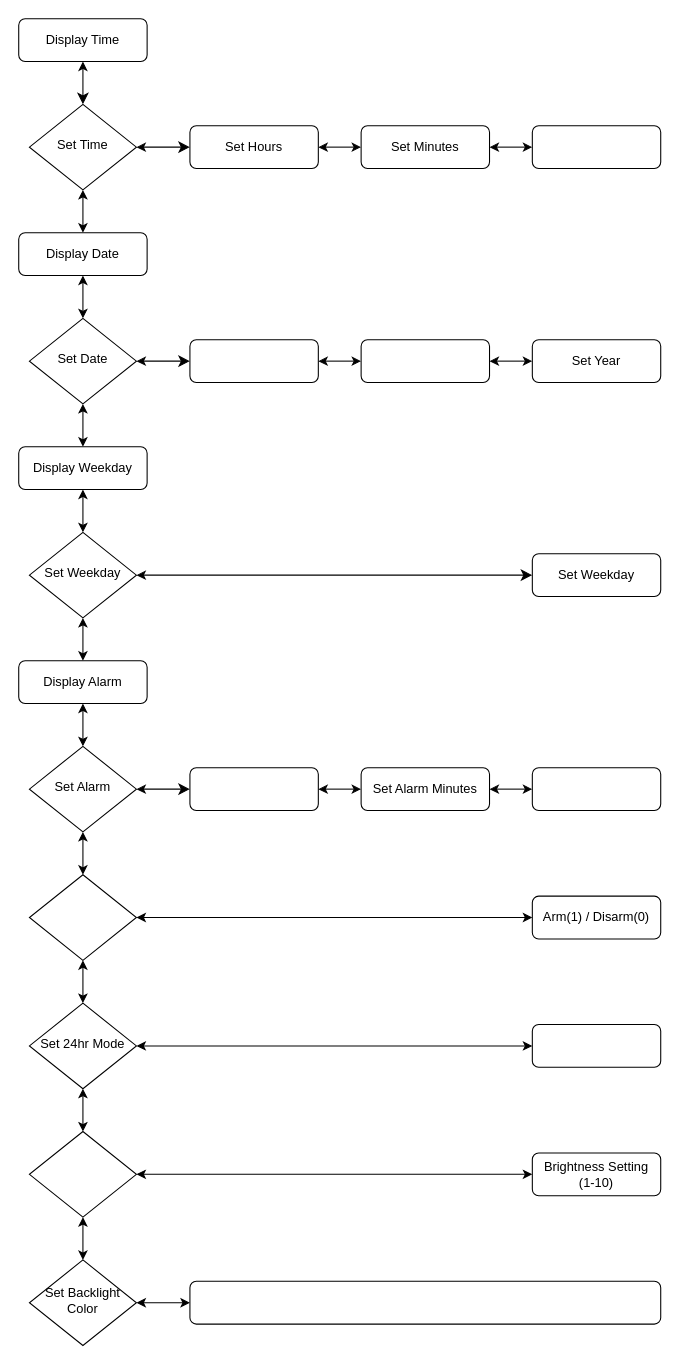
This 679x1364 diagram has some shape labels left out. Here are the shapes that lost their labels. From the top down, the centre of each, then its label:
point 596,147: Set Seconds
point 253,361: Set Month
point 425,361: Set Day
point 253,789: Set Alarm Hours
point 596,789: Set Alarm Seconds
point 82,917: Set Alarm Arm
point 596,1045: AM/PM(1) / 24hr(0)
point 82,1173: Set Display Brightness
point 425,1302: (no data displayed)
